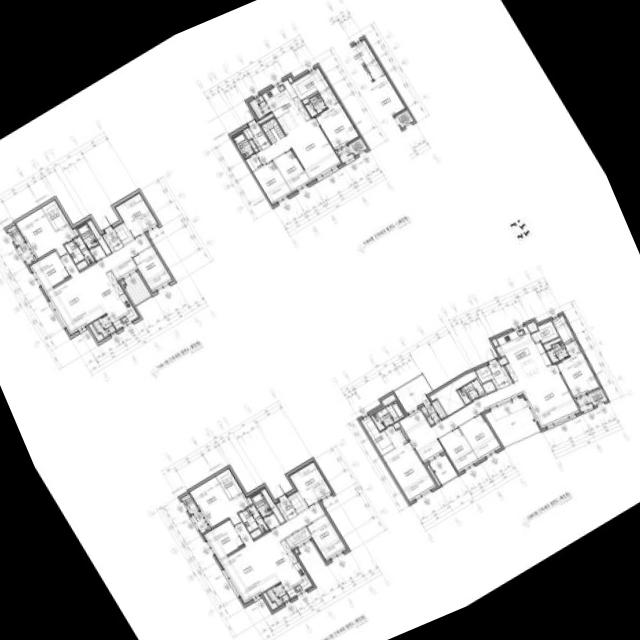background: (0, 0, 640, 640)
space_balconi: (484, 397, 540, 446), (394, 374, 432, 412), (429, 454, 457, 484), (124, 273, 151, 304), (421, 399, 446, 424), (92, 314, 116, 337), (248, 95, 271, 119), (266, 583, 289, 605), (191, 511, 209, 533), (17, 242, 35, 264), (337, 145, 354, 162), (576, 395, 593, 411)
space_bedroom: (382, 425, 436, 501), (189, 476, 250, 527), (15, 208, 76, 259), (315, 87, 359, 149), (289, 460, 332, 506), (115, 192, 158, 238), (556, 352, 599, 397), (459, 413, 501, 459), (306, 514, 347, 560), (132, 245, 173, 291), (439, 427, 478, 471), (253, 160, 292, 204), (30, 251, 70, 291), (204, 519, 244, 559), (273, 149, 310, 191)
space_dressroom: (361, 415, 394, 455), (291, 67, 330, 99), (552, 315, 581, 355), (42, 199, 69, 230), (216, 468, 242, 499)
space_front: (488, 358, 512, 389), (249, 122, 270, 150), (276, 495, 298, 520), (102, 228, 124, 251)
space_kitchen: (496, 325, 552, 381), (263, 539, 312, 598), (89, 270, 138, 329), (262, 79, 310, 134)
space_living_room: (399, 364, 579, 462), (46, 233, 152, 334), (220, 502, 326, 602), (257, 117, 341, 180)
space_other: (430, 370, 477, 415), (261, 488, 285, 523), (87, 219, 111, 254), (261, 117, 285, 144), (531, 320, 559, 343), (111, 257, 137, 280), (285, 527, 311, 549), (287, 490, 307, 512), (114, 222, 133, 244), (475, 365, 494, 383), (588, 388, 607, 405), (88, 323, 104, 342), (427, 464, 441, 485), (246, 153, 262, 171), (264, 513, 280, 530), (90, 244, 106, 261), (393, 421, 408, 439), (263, 592, 277, 609), (543, 337, 561, 350), (302, 91, 318, 104), (482, 380, 496, 393), (382, 394, 396, 405), (258, 113, 273, 123), (242, 126, 253, 139), (527, 321, 538, 332), (249, 139, 258, 152), (498, 356, 508, 365), (492, 338, 498, 346), (73, 227, 79, 235), (247, 496, 253, 504), (288, 77, 293, 82), (295, 549, 298, 553), (121, 280, 124, 284)
space_outdoor_room: (181, 493, 198, 514), (7, 225, 24, 245), (349, 137, 367, 155)
space_toilet: (238, 504, 268, 538), (64, 236, 94, 270), (371, 401, 404, 430), (457, 378, 485, 404), (233, 132, 255, 158), (251, 491, 272, 518), (77, 223, 98, 249), (305, 93, 327, 116), (547, 341, 569, 362)
